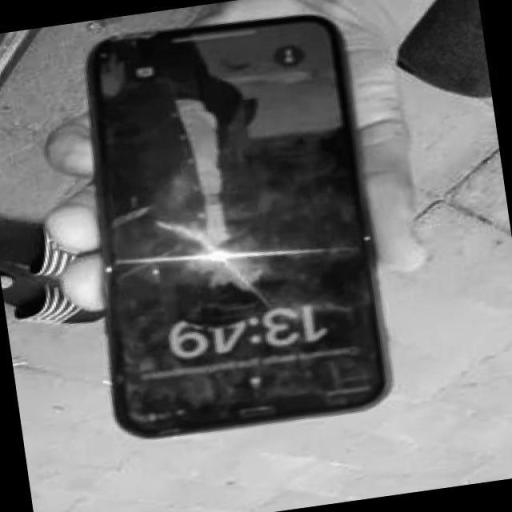phone: (85, 28, 390, 441)
